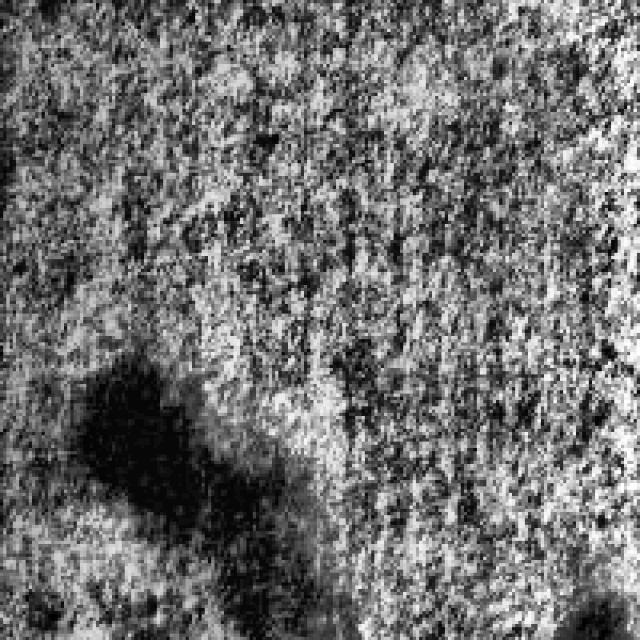Scratches: (67, 346, 320, 624)
